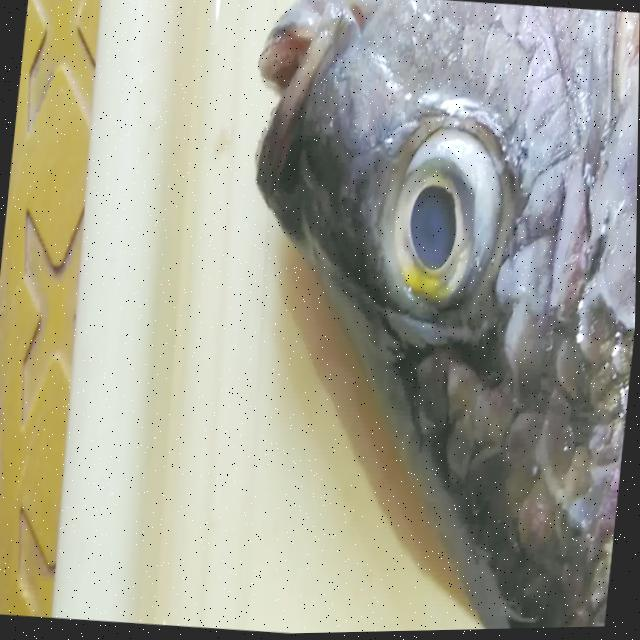Fresh: (366, 86, 522, 348)
